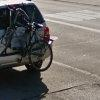Bicycle: (4, 8, 59, 83)
